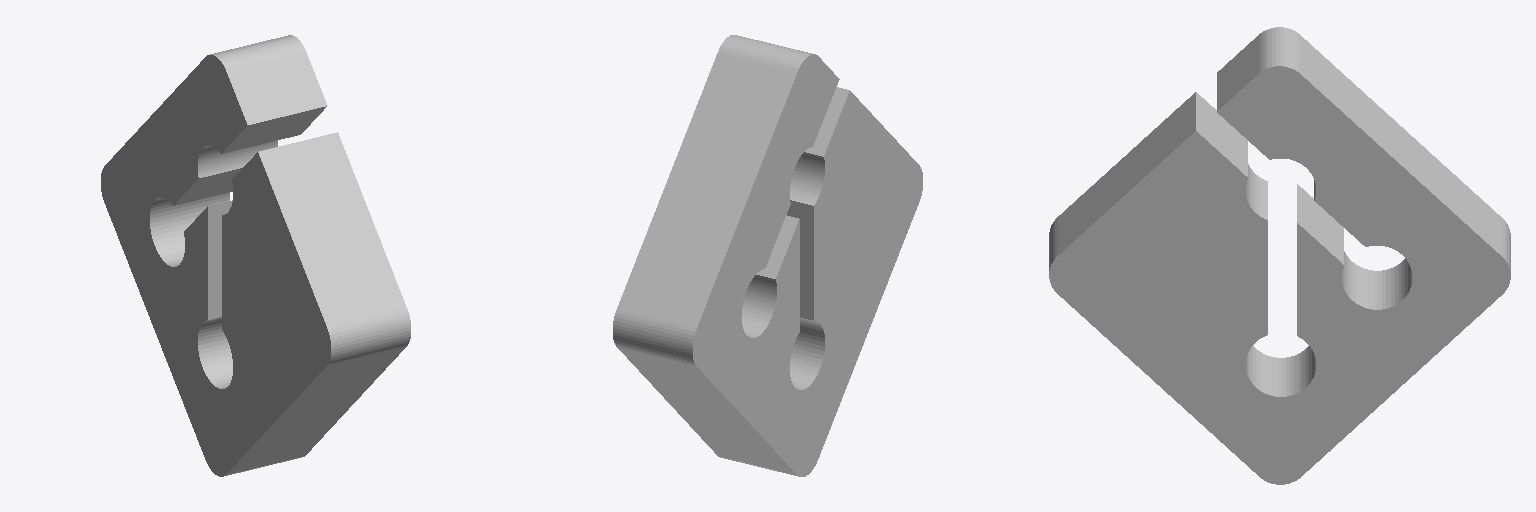
The model's file is github.obj.
The picture shows the model from 3 angles: view 1: azimuth 30°, elevation 25°; view 2: azimuth 150°, elevation 25°; view 3: azimuth 270°, elevation 25°; orthographic projection.
Parts seen in each view (by area): view 1: Git_(2); view 2: Git_(2); view 3: Git_(2).
Boxes of the visible parts, x1,y1,x2,y2 form: Git_(2): [101, 35, 410, 476]; Git_(2): [613, 35, 922, 476]; Git_(2): [1049, 27, 1510, 484].
Bounding box in the file's own units: 1 × 5 × 5.